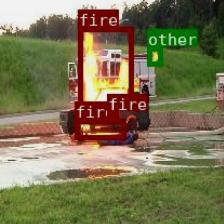fire: (77, 26, 133, 105), (74, 118, 125, 139), (106, 110, 118, 118)
